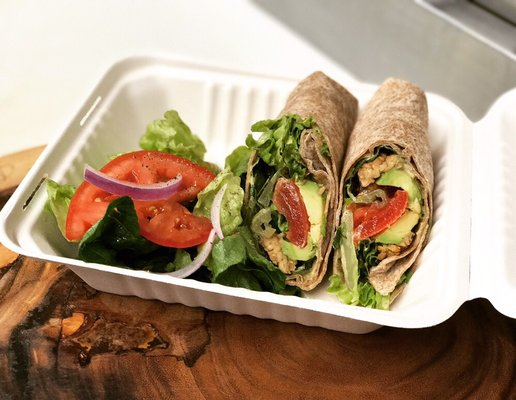soup: (334, 77, 436, 310)
